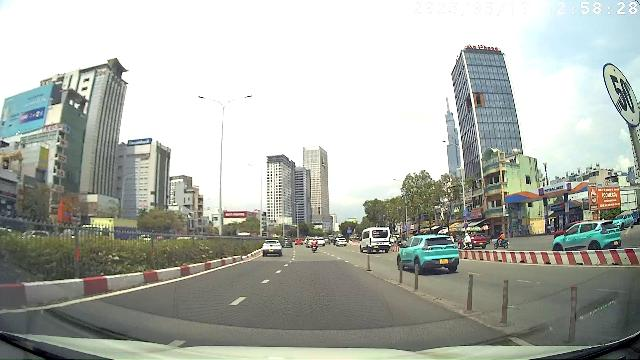134-het-han-che-toc-do-toi-da: (602, 61, 640, 129)
